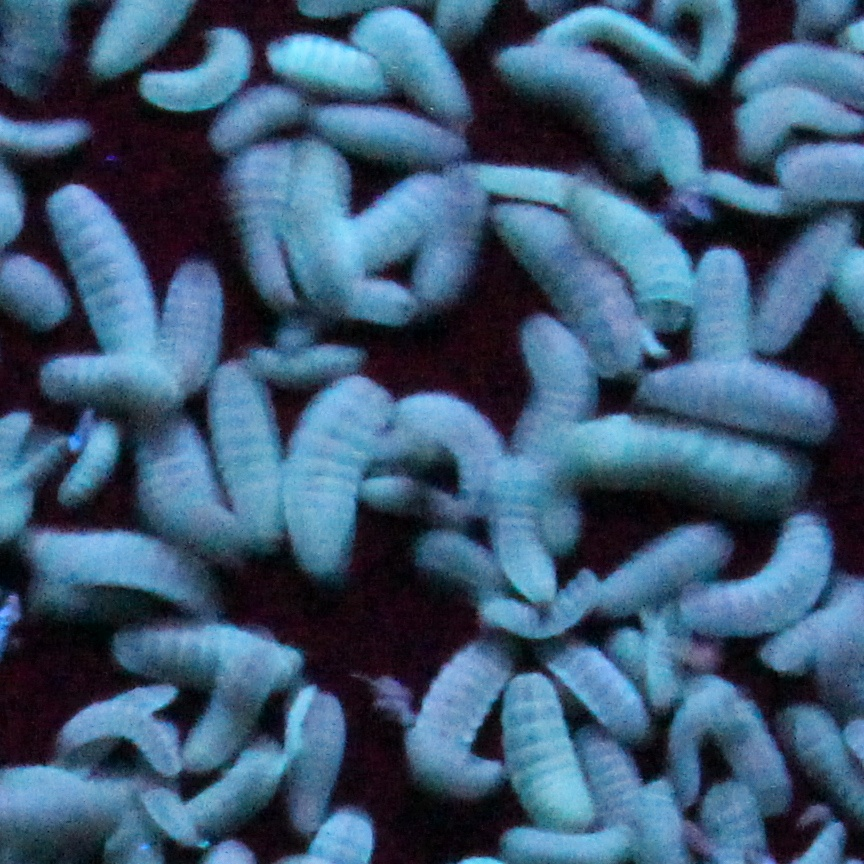larve: (493, 200, 640, 371), (564, 419, 807, 512), (492, 45, 657, 181), (283, 378, 392, 583), (673, 516, 833, 643), (49, 186, 164, 357), (568, 185, 688, 333), (30, 530, 221, 616), (499, 671, 599, 831), (635, 361, 840, 435), (663, 681, 786, 803), (212, 366, 290, 552), (752, 209, 856, 347), (362, 16, 481, 128), (392, 392, 509, 505), (508, 312, 601, 451), (292, 143, 362, 316), (114, 628, 306, 690), (425, 640, 511, 778), (490, 457, 562, 612), (601, 526, 726, 613), (414, 162, 488, 307), (138, 30, 254, 118), (549, 641, 646, 736), (42, 350, 187, 407), (49, 712, 178, 774), (288, 693, 340, 838), (268, 36, 385, 90), (691, 250, 750, 357), (204, 88, 302, 152), (171, 259, 221, 383), (59, 419, 126, 504), (245, 347, 368, 376)
